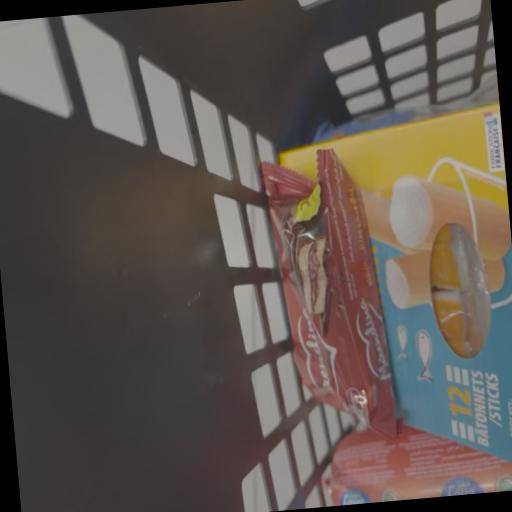merendina: (250, 146, 406, 440)
